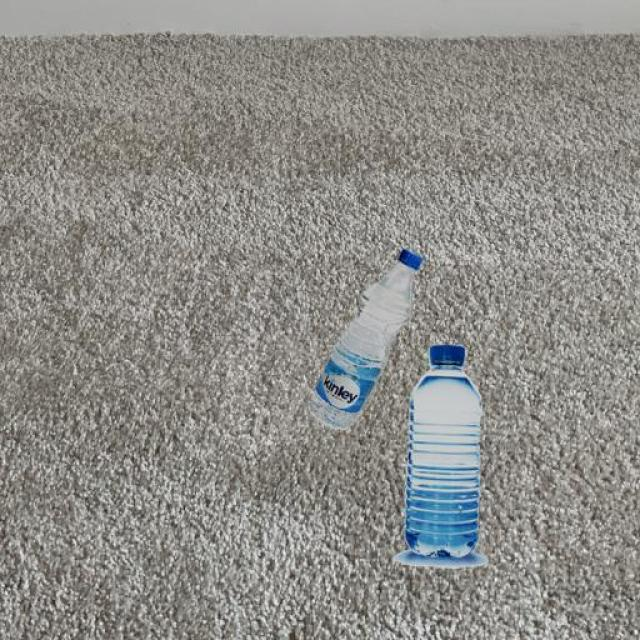bottle: (394, 343, 496, 573), (307, 242, 424, 433)
